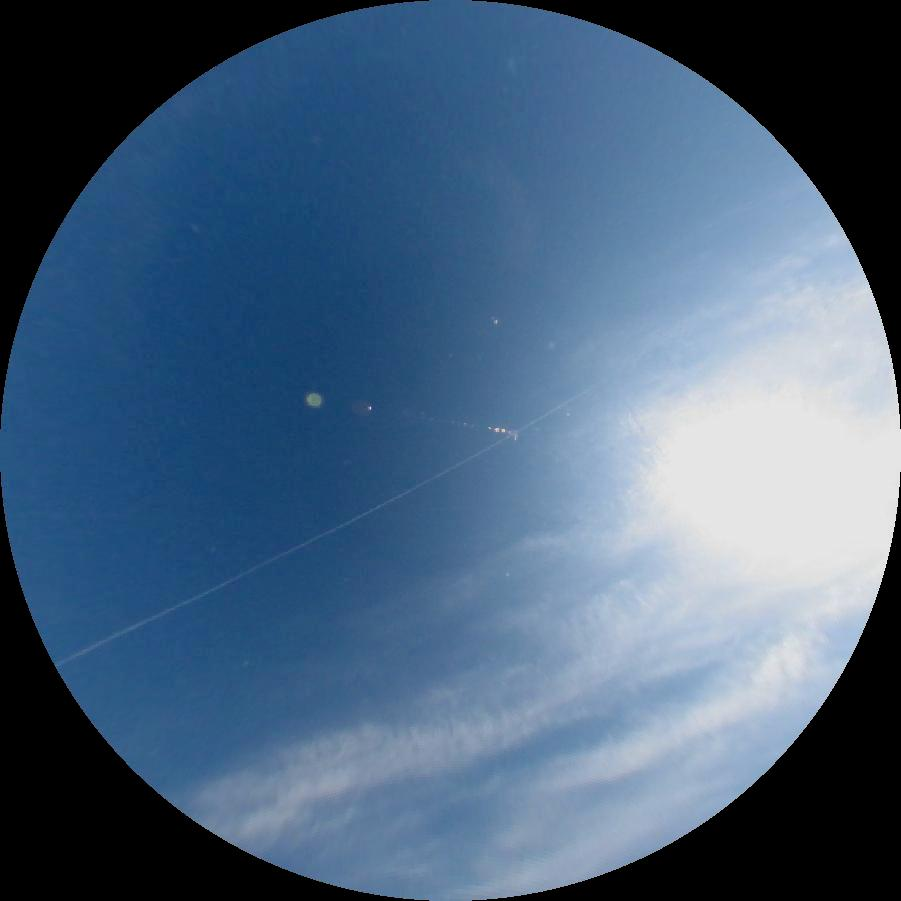contrail young: (55, 383, 603, 673)
sun: (642, 365, 901, 591)
